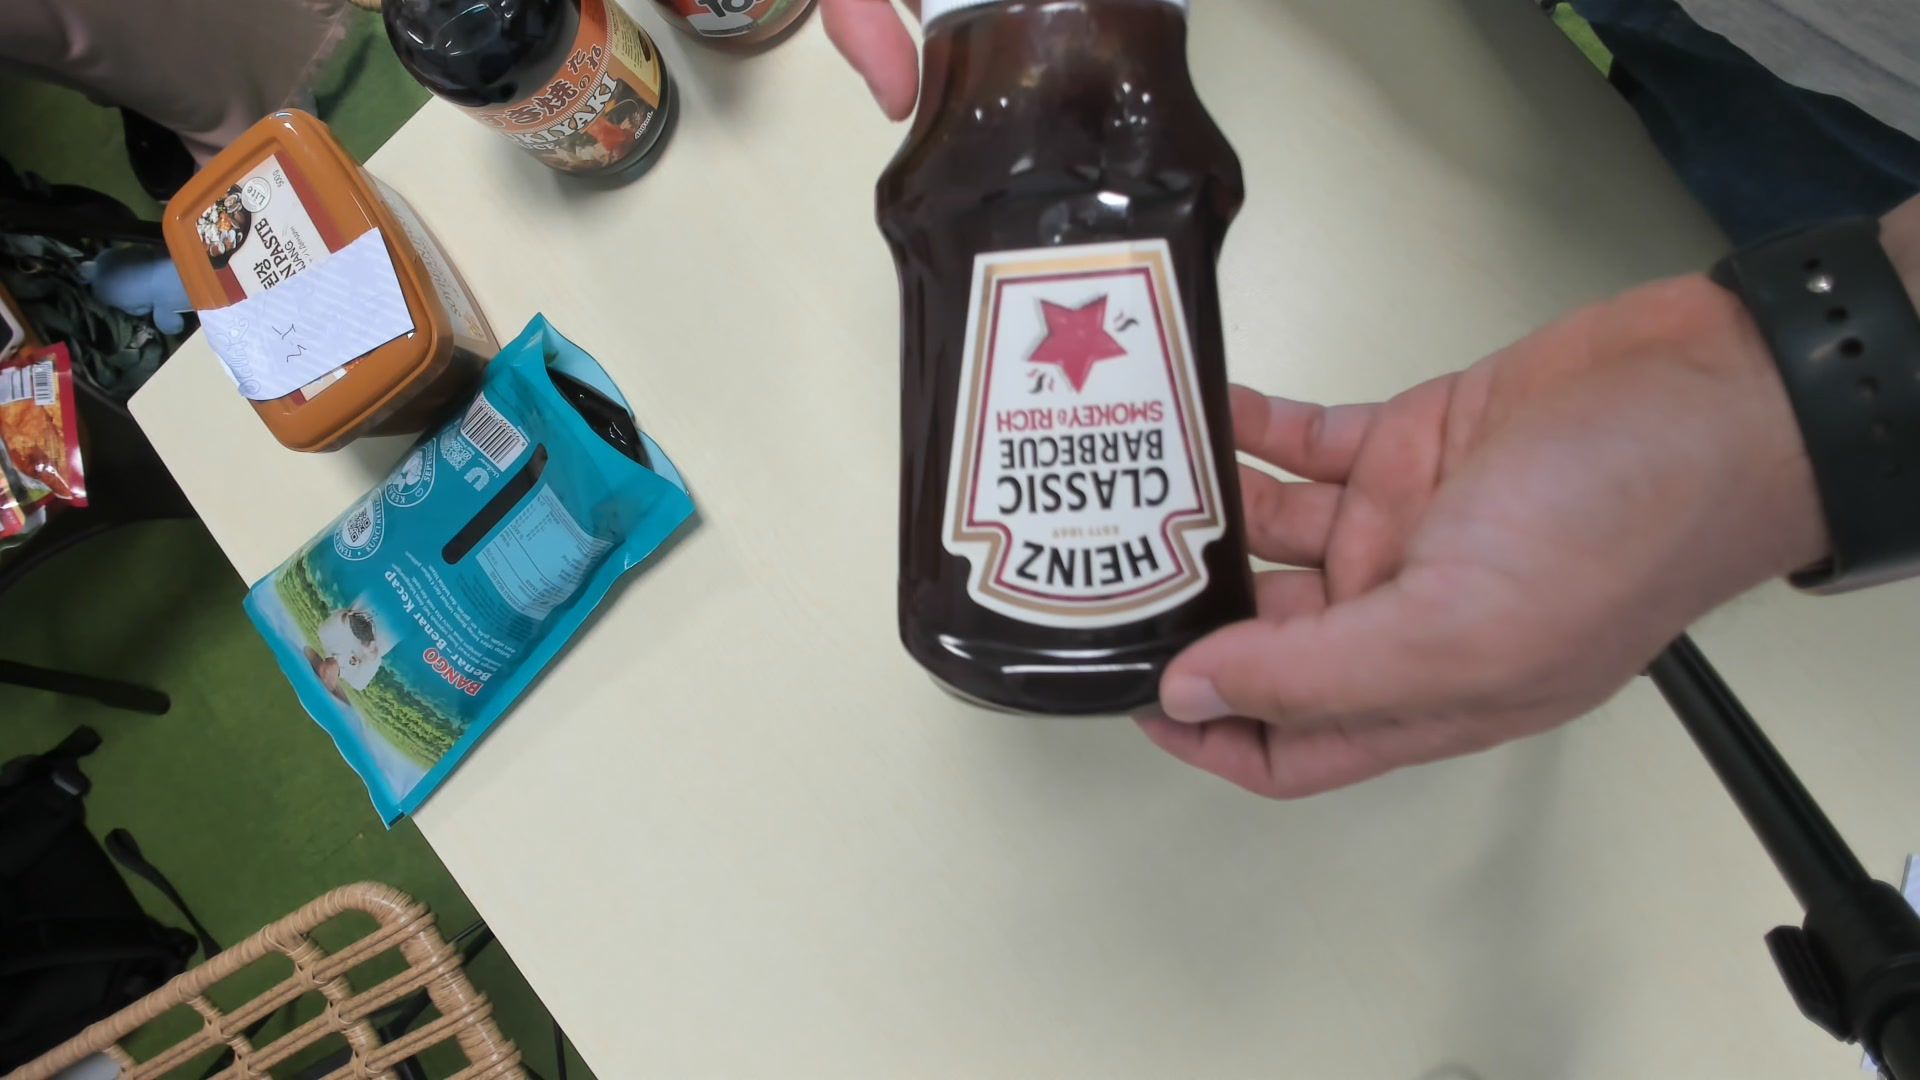OtherSauceDressing_400-499g_NonHalal_NonHealthy: (873, 1, 1253, 720)
